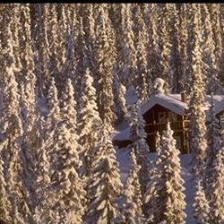neutral: (4, 58, 224, 190)
